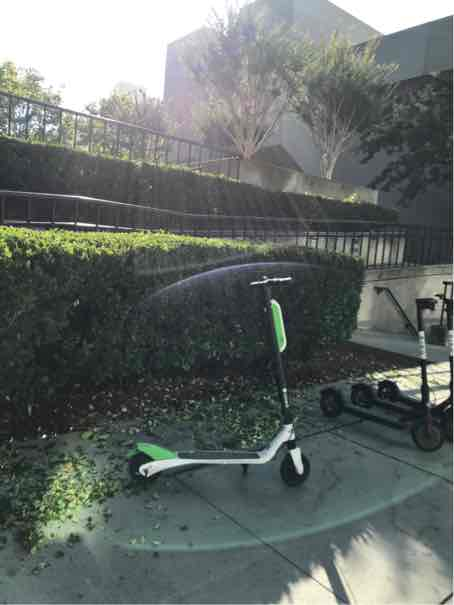scooter: (126, 271, 313, 503)
